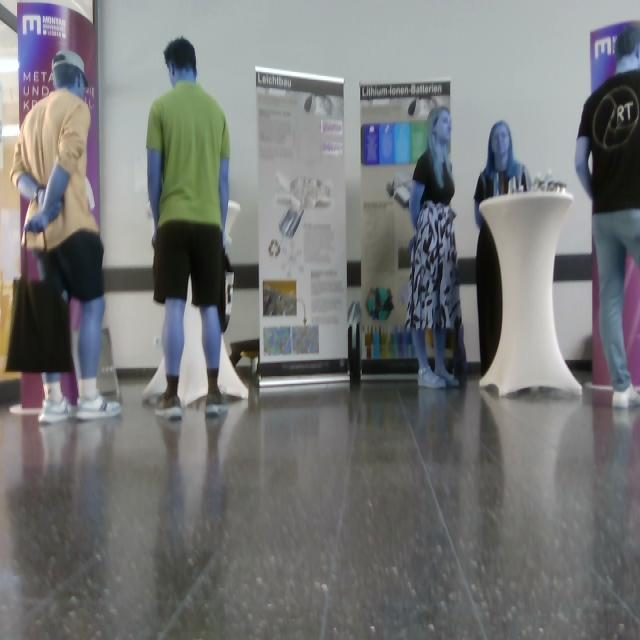door: (255, 67, 351, 387)
light bulb: (223, 200, 241, 246), (387, 176, 412, 209), (304, 93, 333, 117), (408, 97, 437, 118)
person: (10, 49, 124, 424), (144, 36, 232, 420), (575, 24, 640, 409), (406, 106, 464, 389), (474, 120, 533, 378)
pillar: (478, 189, 583, 397)
tiled floor: (1, 366, 640, 640)
